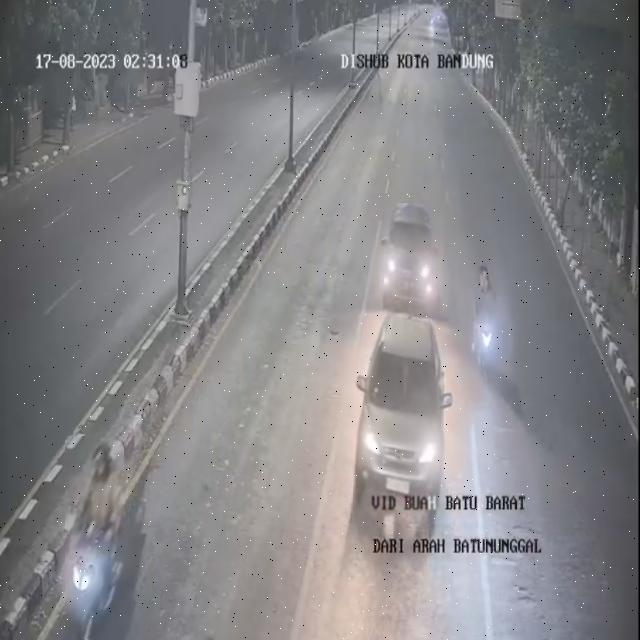cars: (354, 314, 443, 524), (384, 204, 436, 316)
motorcycle: (65, 436, 123, 639), (472, 263, 499, 375)
